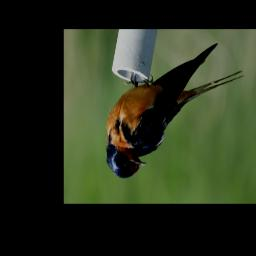Swallow: (105, 45, 244, 181)
